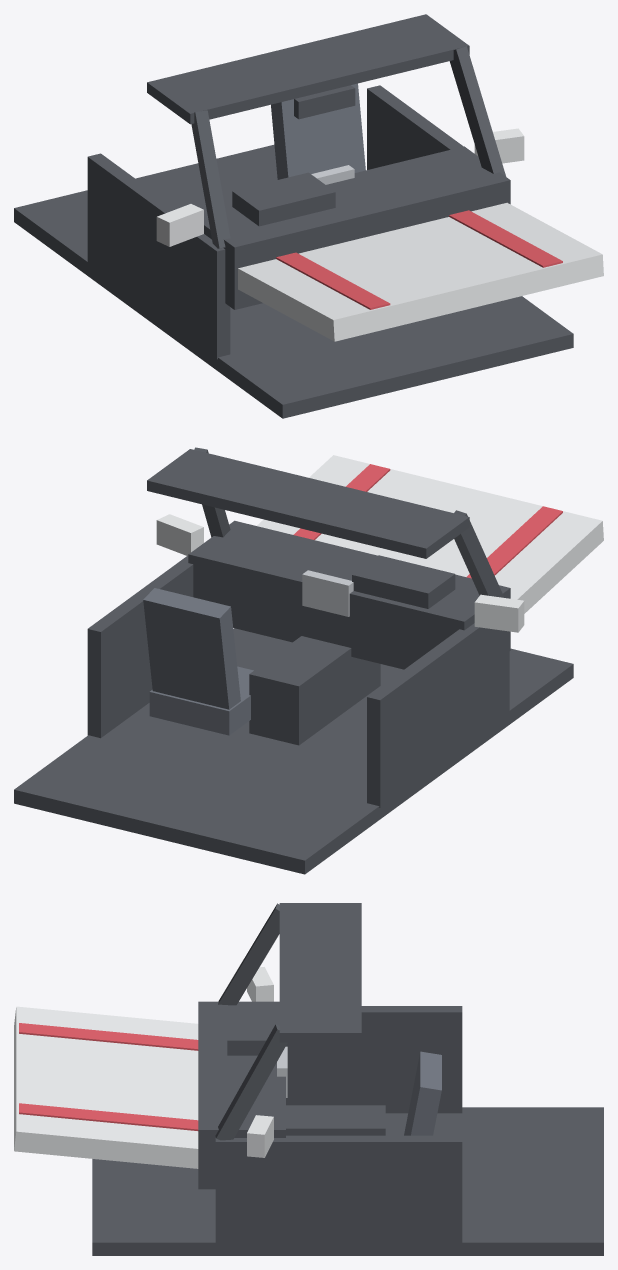
The model's file is car_cockpit.glb.
3 renders of one model, top to bottom at view 1: azimuth 30°, elevation 25°; view 2: azimuth 150°, elevation 25°; view 3: azimuth 270°, elevation 25°, orthographic. The views are drawn at different scales.
Parts seen in each view (by area): view 1: Floor, FrontHood, DashboardMain, DoorLeft, RoofHeader, SeatPassengerBack, DoorRight, DashboardTopVisor, APillarRight, APillarLeft, HoodStripeLeft, HoodStripeRight (+3 smaller); view 2: Floor, DashboardMain, DoorLeft, RoofHeader, FrontHood, CenterConsole, SeatPassengerBack, DoorRight, DashboardTopVisor, SeatPassengerBase, CenterScreenBezel, APillarLeft (+5 smaller); view 3: Floor, DoorRight, FrontHood, DoorLeft, RoofHeader, DashboardMain, CenterConsole, APillarRight, SeatPassengerBack, DashboardTopVisor, HoodStripeRight, HoodStripeLeft (+3 smaller).
Boxes of the visible parts, x1,y1,x2,y2 form: Floor: (14, 145, 573, 418); FrontHood: (238, 202, 603, 341); DashboardMain: (204, 146, 510, 309); DoorLeft: (87, 153, 230, 359); RoofHeader: (147, 14, 469, 124); SeatPassengerBack: (271, 83, 365, 179); DoorRight: (367, 85, 463, 169); DashboardTopVisor: (232, 172, 335, 226); APillarRight: (449, 46, 506, 176); APillarLeft: (191, 110, 230, 248); HoodStripeLeft: (276, 252, 390, 309); HoodStripeRight: (449, 210, 562, 267); Floor: (14, 628, 573, 874); DashboardMain: (188, 520, 510, 669); DoorLeft: (367, 623, 509, 807); RoofHeader: (147, 449, 469, 558); FrontHood: (257, 455, 603, 613); CenterConsole: (249, 636, 380, 745); SeatPassengerBack: (143, 588, 240, 709); DoorRight: (87, 556, 193, 738); DashboardTopVisor: (352, 555, 455, 608); SeatPassengerBase: (149, 666, 253, 735); CenterScreenBezel: (302, 570, 353, 616); APillarLeft: (454, 510, 504, 597); Floor: (92, 1107, 603, 1255); DoorRight: (215, 1135, 462, 1244); FrontHood: (14, 1006, 198, 1168); DoorLeft: (286, 1006, 462, 1113); RoofHeader: (279, 903, 361, 1042); DashboardMain: (198, 1001, 285, 1189); CenterConsole: (286, 1105, 385, 1135); APillarRight: (215, 1024, 287, 1140); SeatPassengerBack: (404, 1051, 441, 1135); DashboardTopVisor: (227, 1005, 278, 1055); HoodStripeRight: (19, 1103, 198, 1130); HoodStripeLeft: (19, 1023, 198, 1050).
Size of the model in its own units: 2.18 by 1.34 by 3.23.
